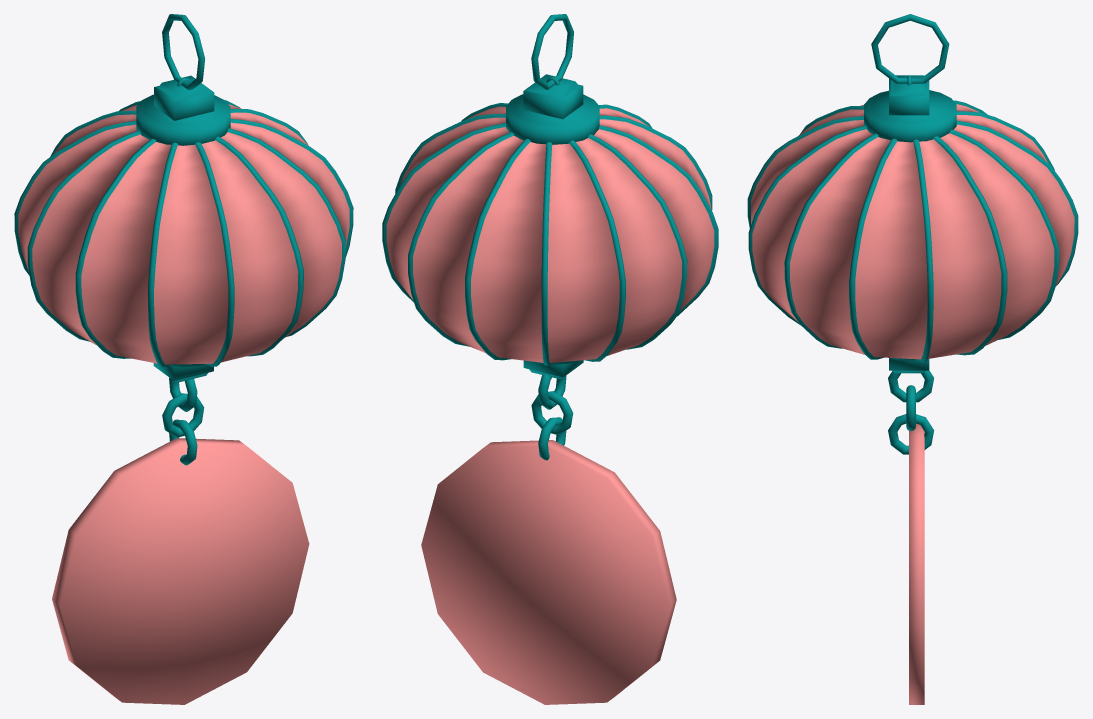
3 views of the same model, side by side, from view 1: azimuth 30°, elevation 25°; view 2: azimuth 150°, elevation 25°; view 3: azimuth 270°, elevation 25° (orthographic).
Parts seen in each view (by area): view 1: 1_low001; view 2: 1_low001; view 3: 1_low001.
Boxes of the visible parts, x1,y1,x2,y2 form: 1_low001: (14, 14, 353, 704); 1_low001: (382, 14, 718, 704); 1_low001: (747, 14, 1078, 704).
Bounding box in the file's own units: 143 × 320 × 142.
